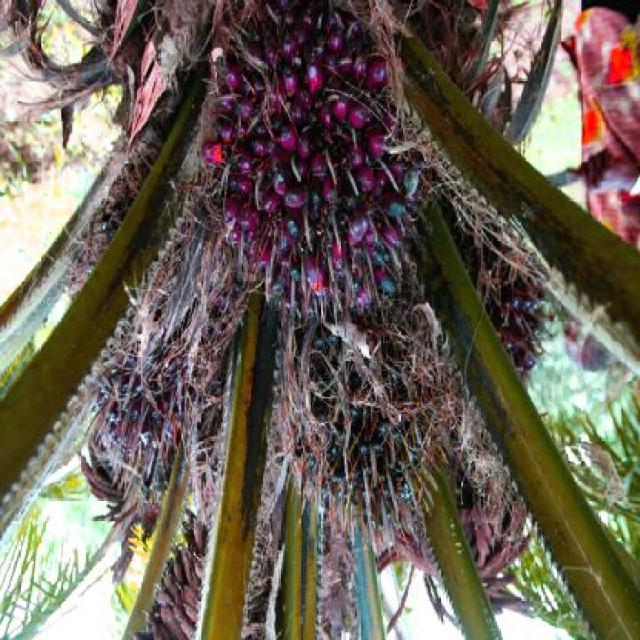palm-oil: (200, 0, 443, 309), (292, 326, 440, 522)
